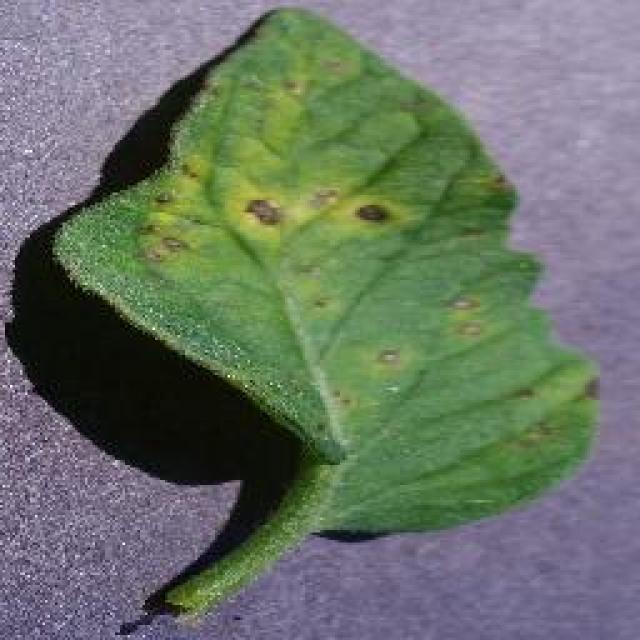Tomato Septoria spot leaf: (59, 4, 598, 534)
